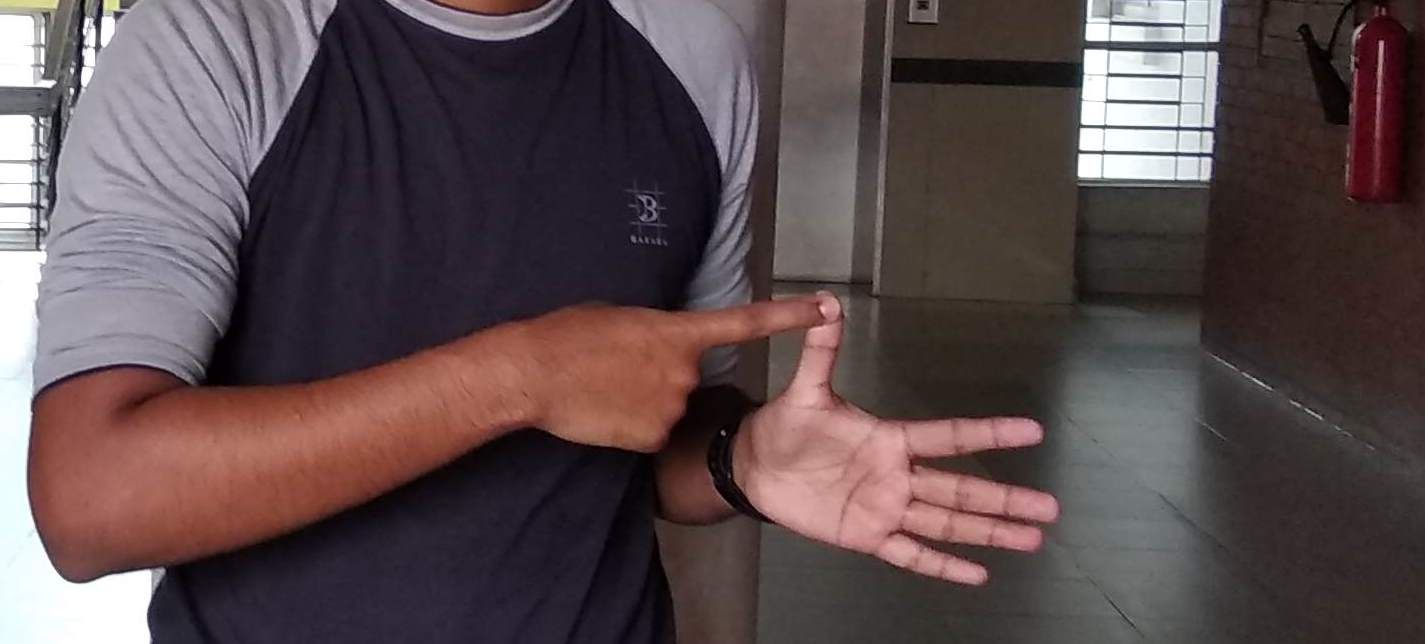a: (569, 292, 1060, 596)
